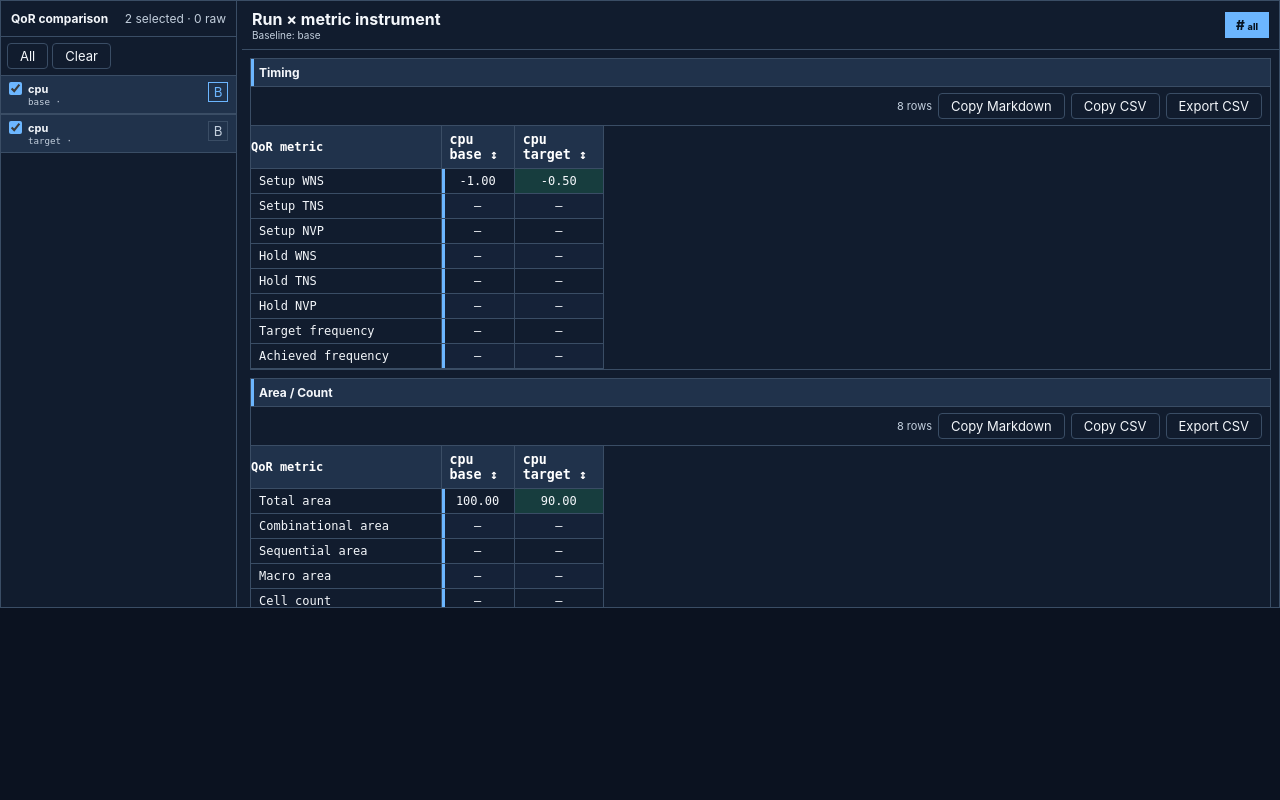
Test: DcReportPanel picker effects › shows canonical catalog labels in picker groups
Click the button "# all". click: (1247, 25)
box: [1225,12,1269,38]
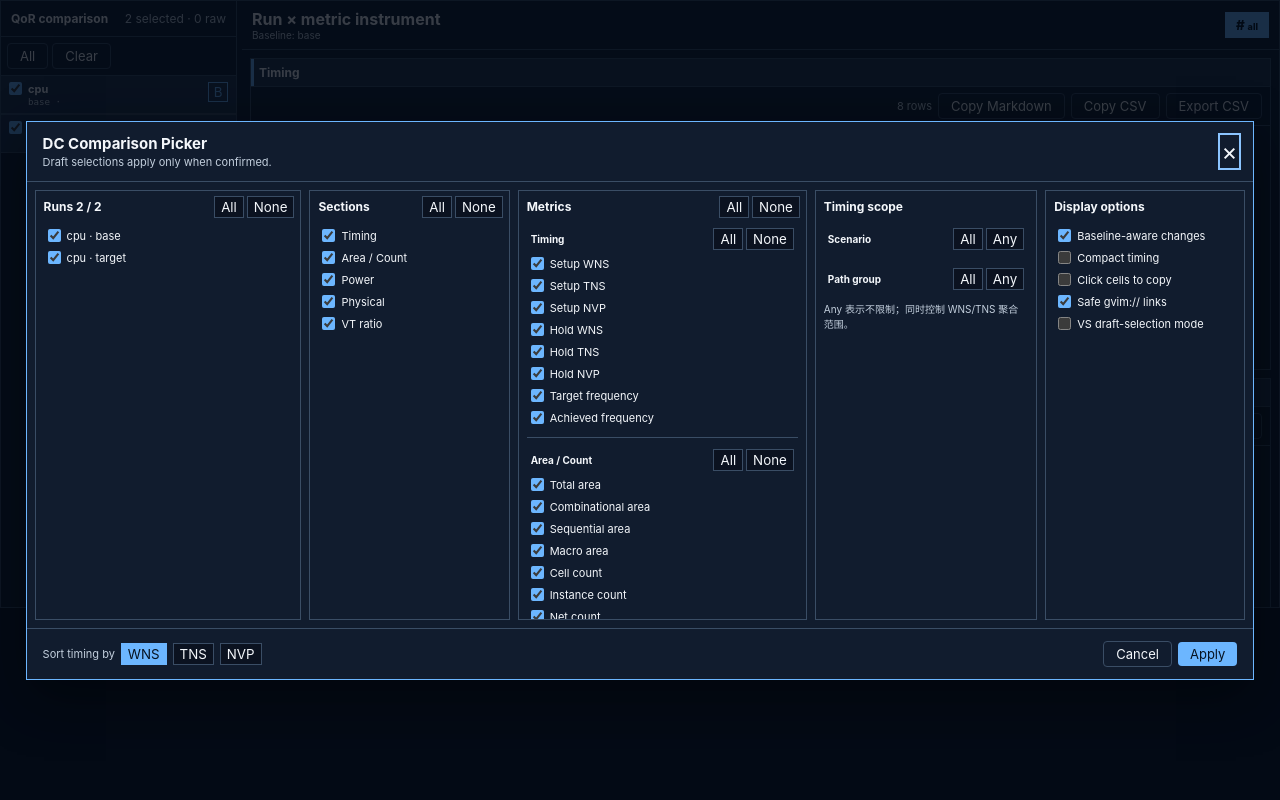
Expected: the dialog shows "Timing", [342,228,377,242]
Expected: the dialog shows "Setup WNS", [550,256,609,270]
Expected: the dialog shows "Total area", [550,478,601,492]
